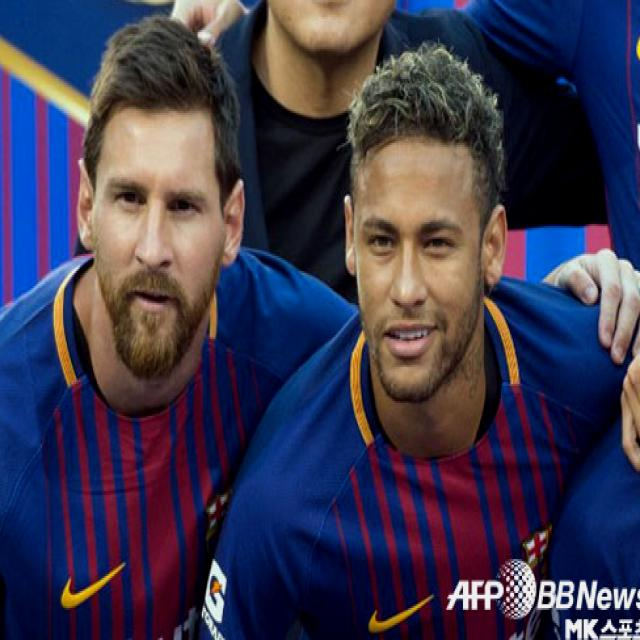neymar: (343, 65, 506, 400)
